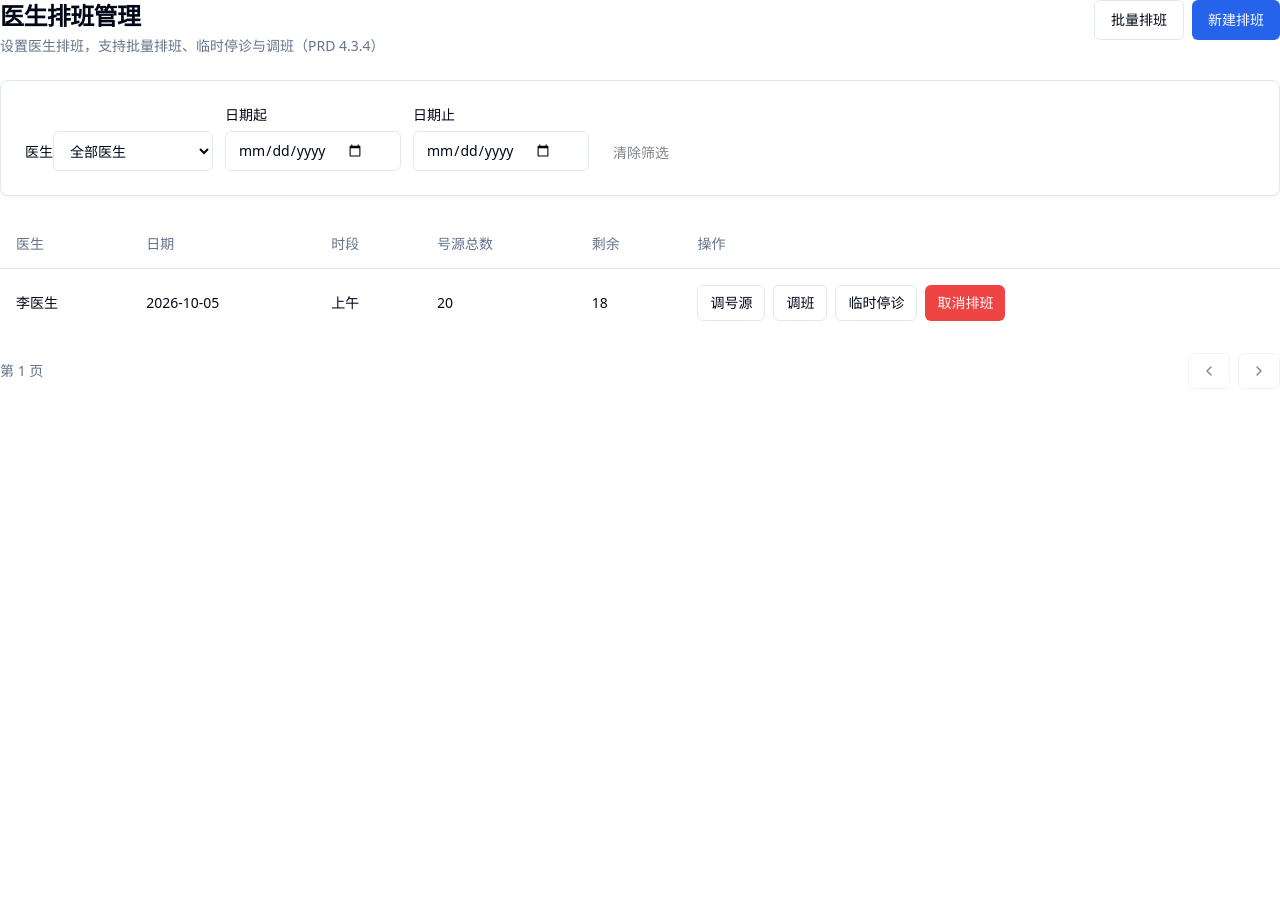
Test: ScheduleManagePage › 批量排班把日期区间 × 多选时段交给后端，回包的跳过明细要看得见
Check: the table is shown, box [0, 220, 1279, 336]
Click the button "批量排班" at (1139, 20), box [1094, 0, 1184, 40]
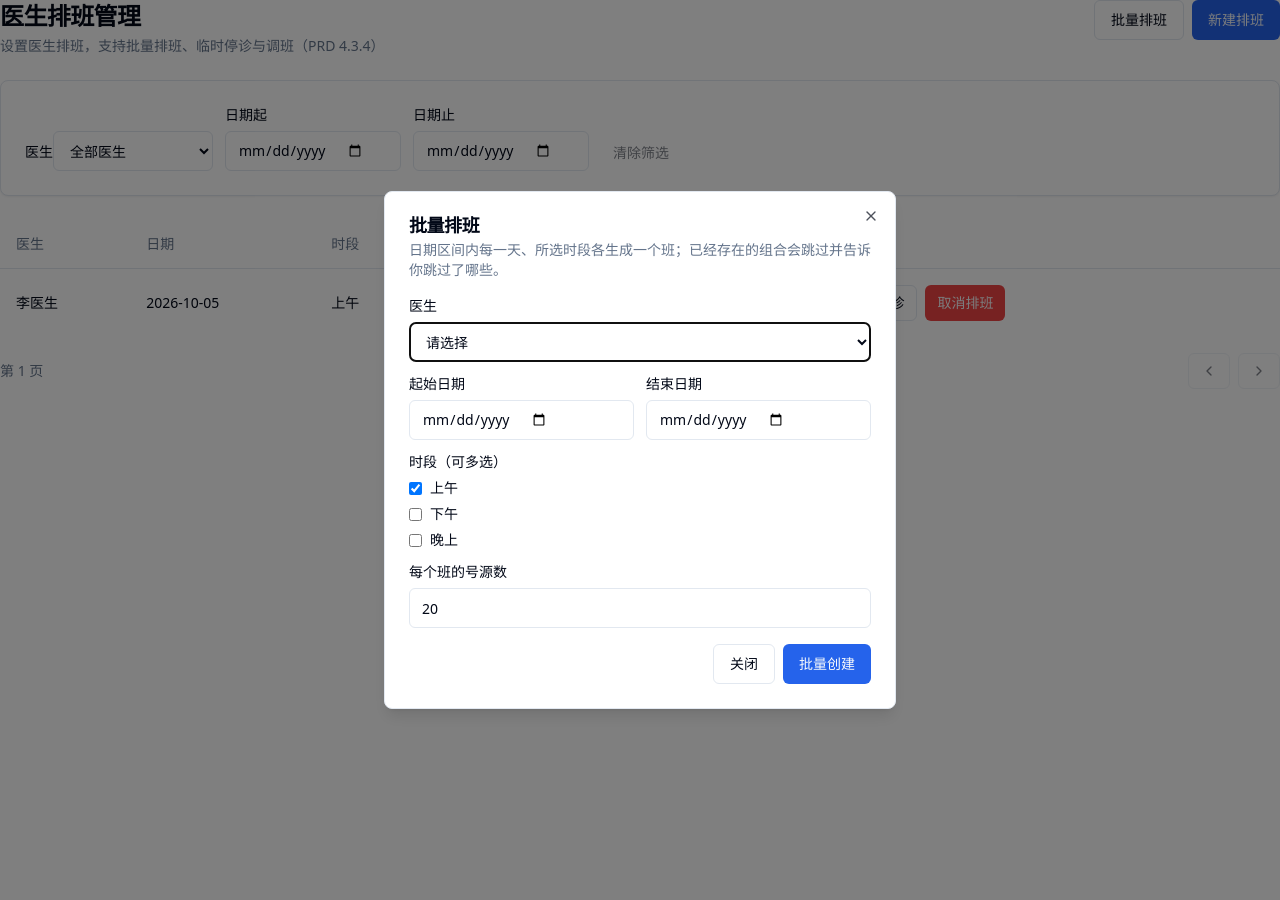
Select "李医生" in the dropdown labelled "医生" at (640, 342), box [409, 322, 871, 362]
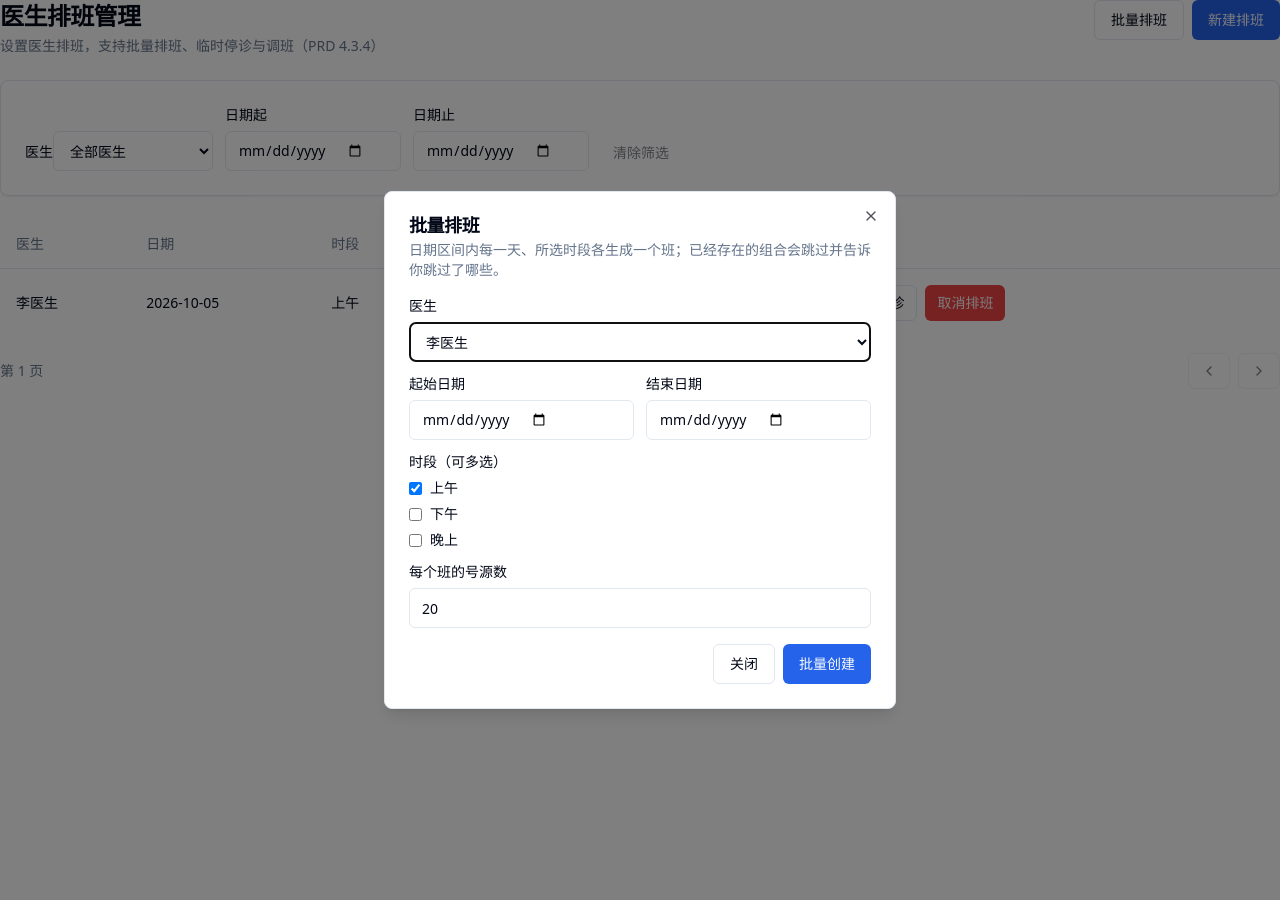
Type "2026-10-06" into the date field labelled "起始日期" at (522, 420), box [409, 400, 634, 440]
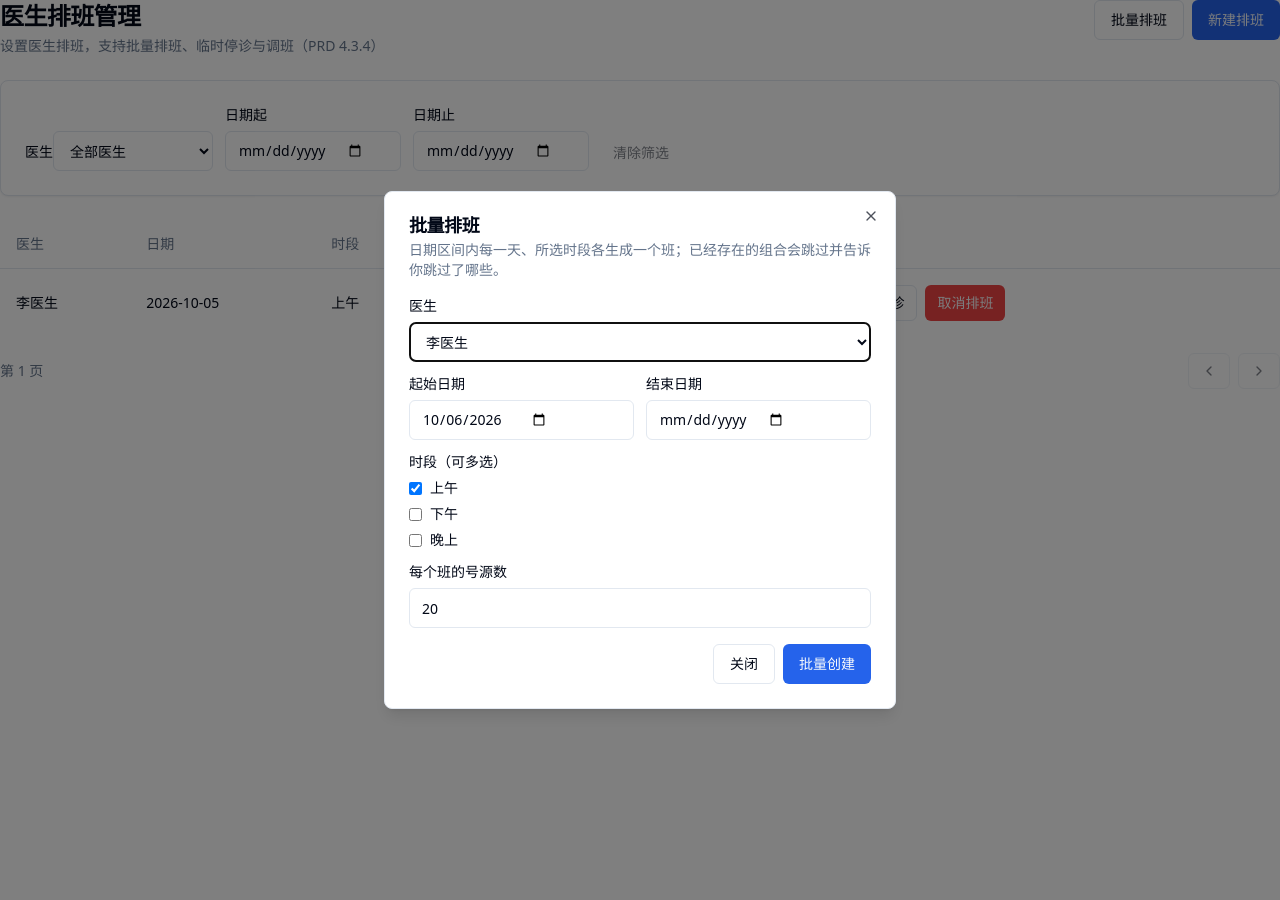
Type "2026-10-08" into the date field labelled "结束日期" at (758, 420), box [646, 400, 871, 440]
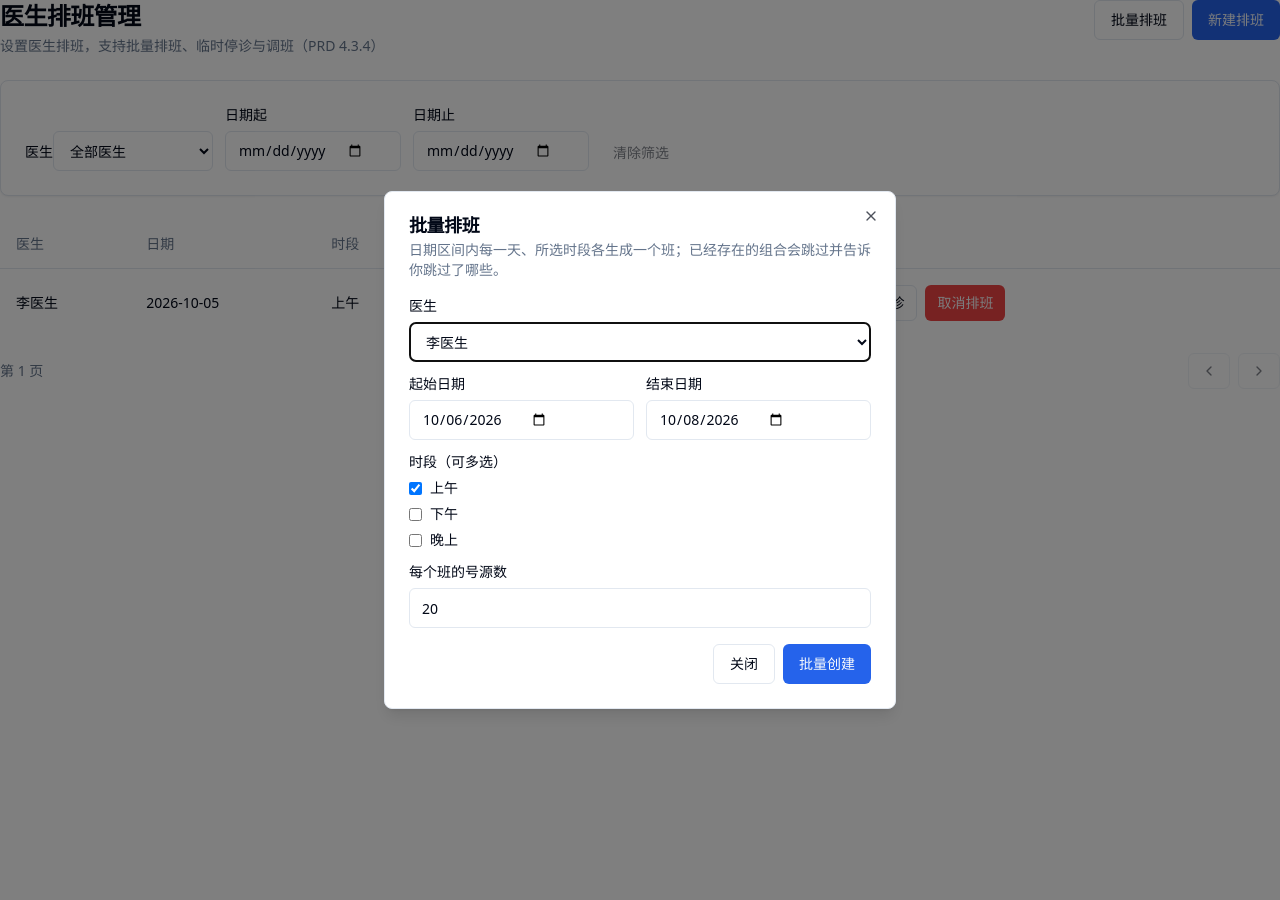
Click the checkbox labelled "下午" at (416, 514), box [409, 508, 422, 520]
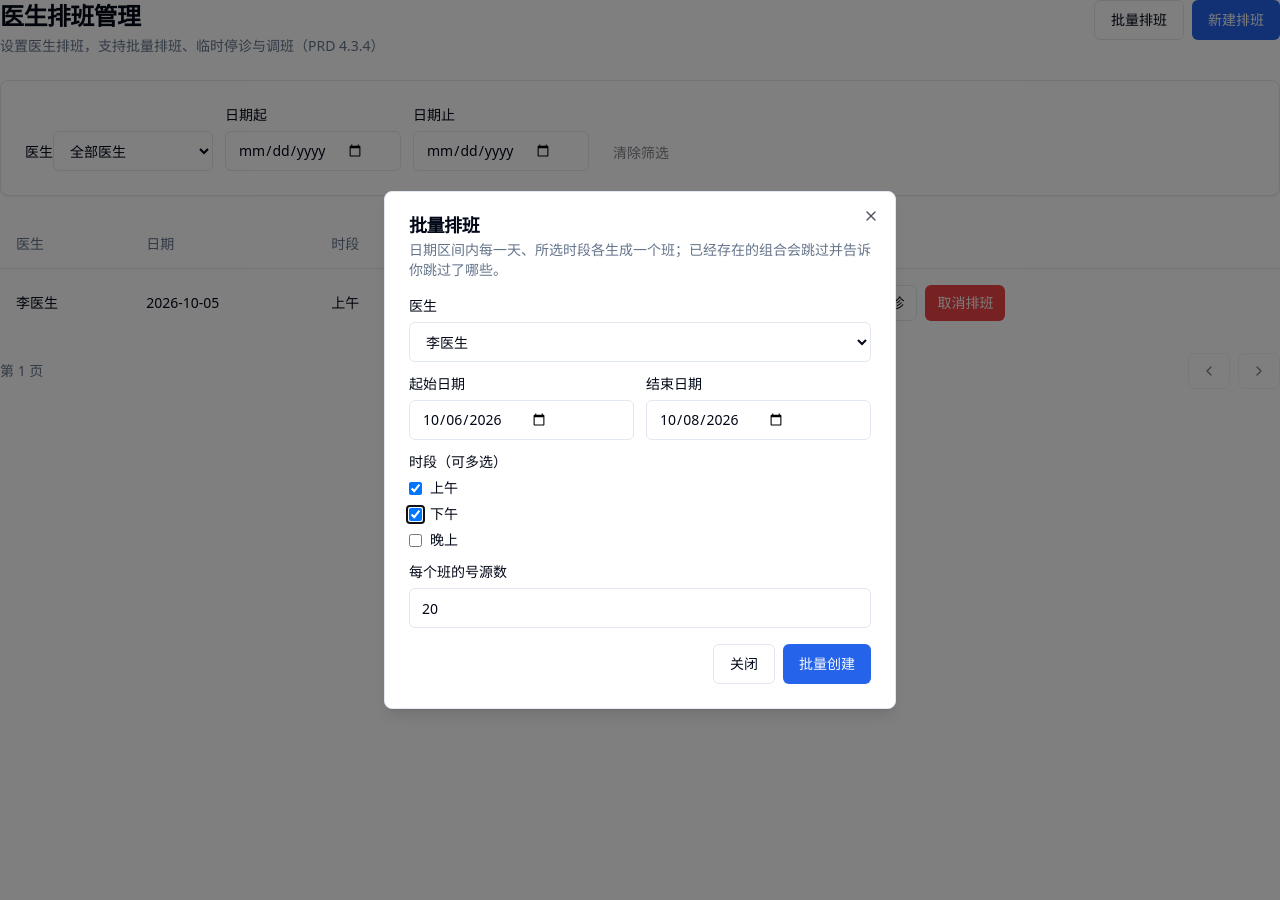
Click the button "批量创建" at (827, 664), box [783, 644, 871, 684]
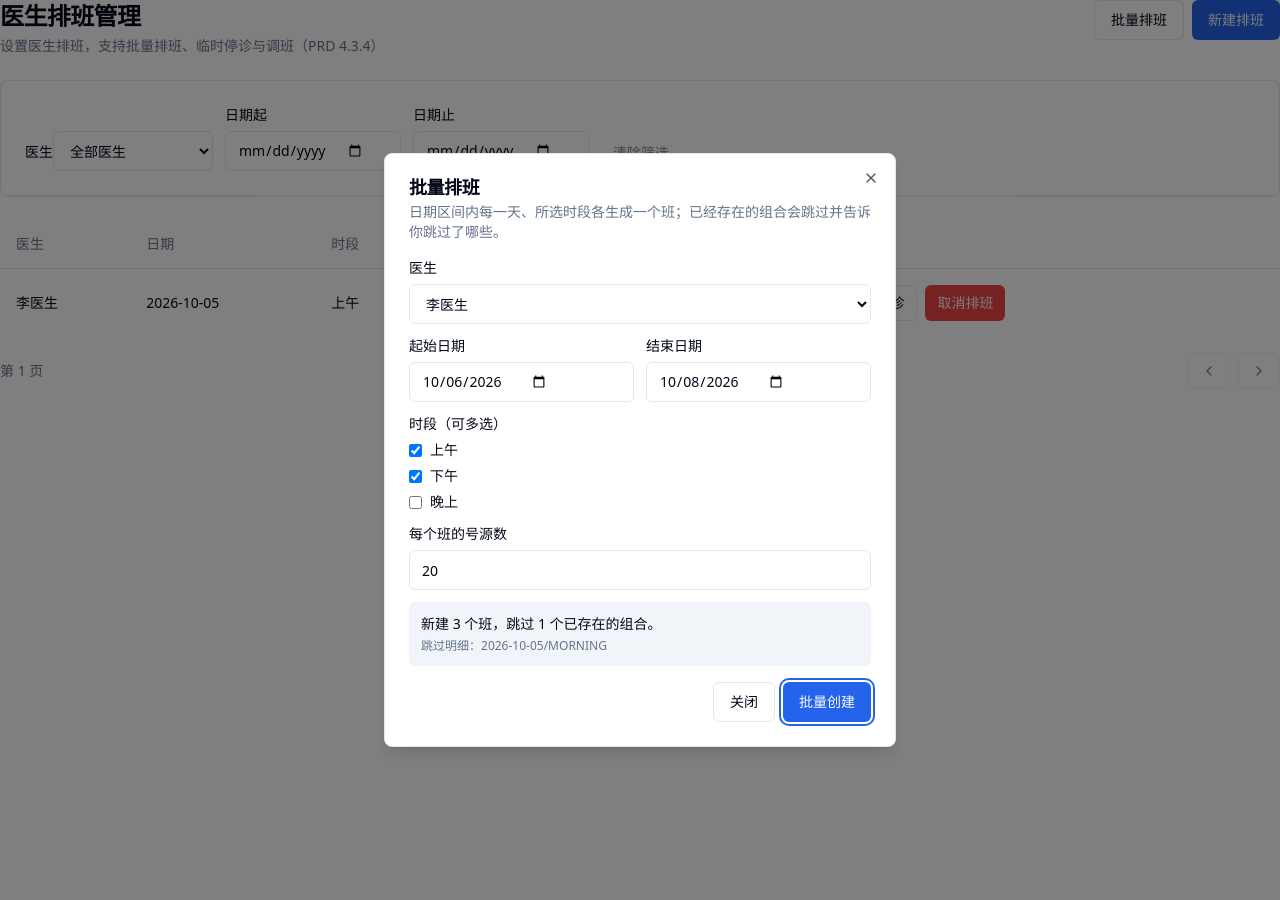
Check: the text "新建 3 个班，跳过 1 个已存在的组合。 跳过明细：2026-10-05/MORNING" is shown, box [409, 602, 871, 666]
Check: the text "跳过明细：2026-10-05/MORNING" is shown, box [421, 637, 607, 654]
